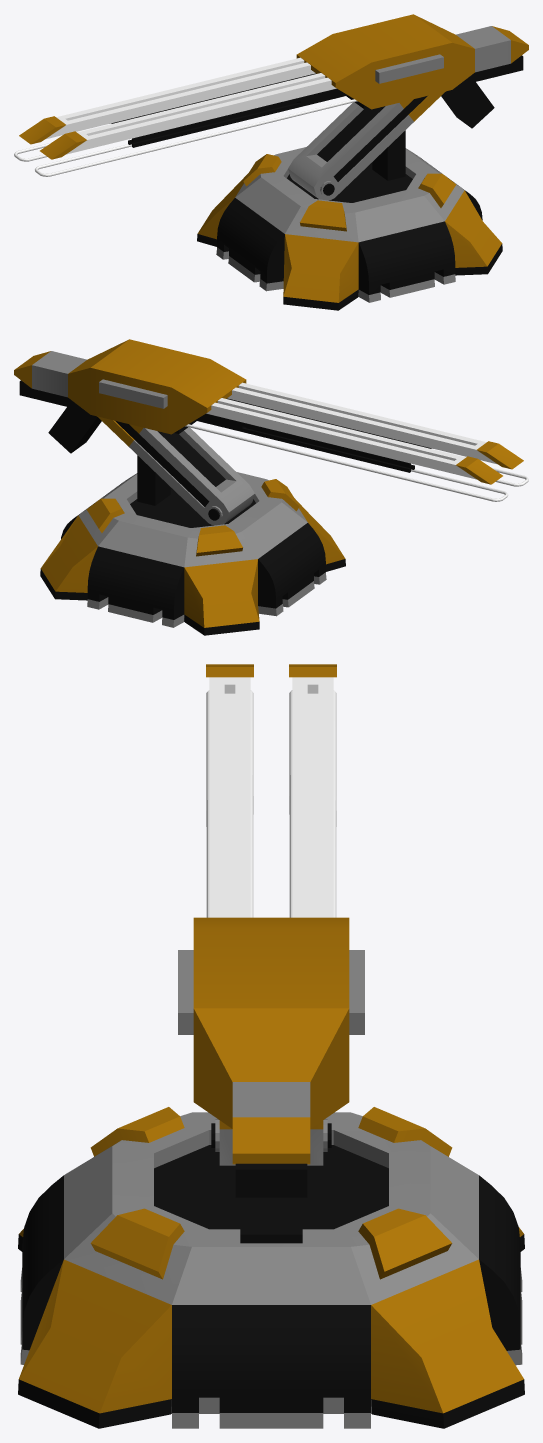
Rendered from Turret_02.fbx.
3 renders of one model, top to bottom at view 1: azimuth 30°, elevation 25°; view 2: azimuth 150°, elevation 25°; view 3: azimuth 270°, elevation 25°, orthographic. The views are drawn at different scales.
Visible parts, largest first — view 1: Gun, Base; view 2: Gun, Base; view 3: Base, Gun.
Part boxes in pixels (box(x1,y1,x2,y2)): Gun: box(14, 14, 528, 200); Base: box(197, 147, 502, 310); Gun: box(14, 339, 528, 525); Base: box(40, 472, 345, 635); Base: box(18, 1107, 524, 1428); Gun: box(178, 664, 364, 1243).
Bounding box in the file's own units: 2.74 × 1.06 × 1.22.
